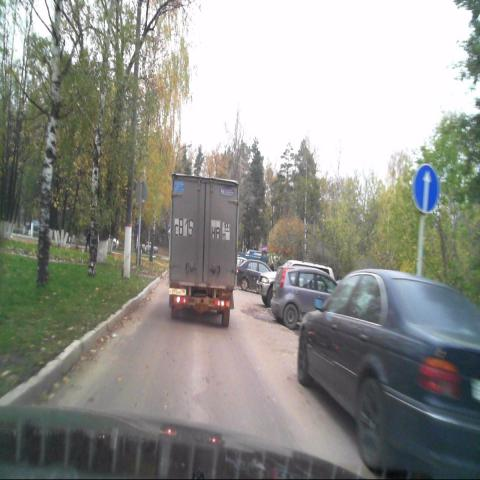4_1_1: (414, 163, 438, 212)
